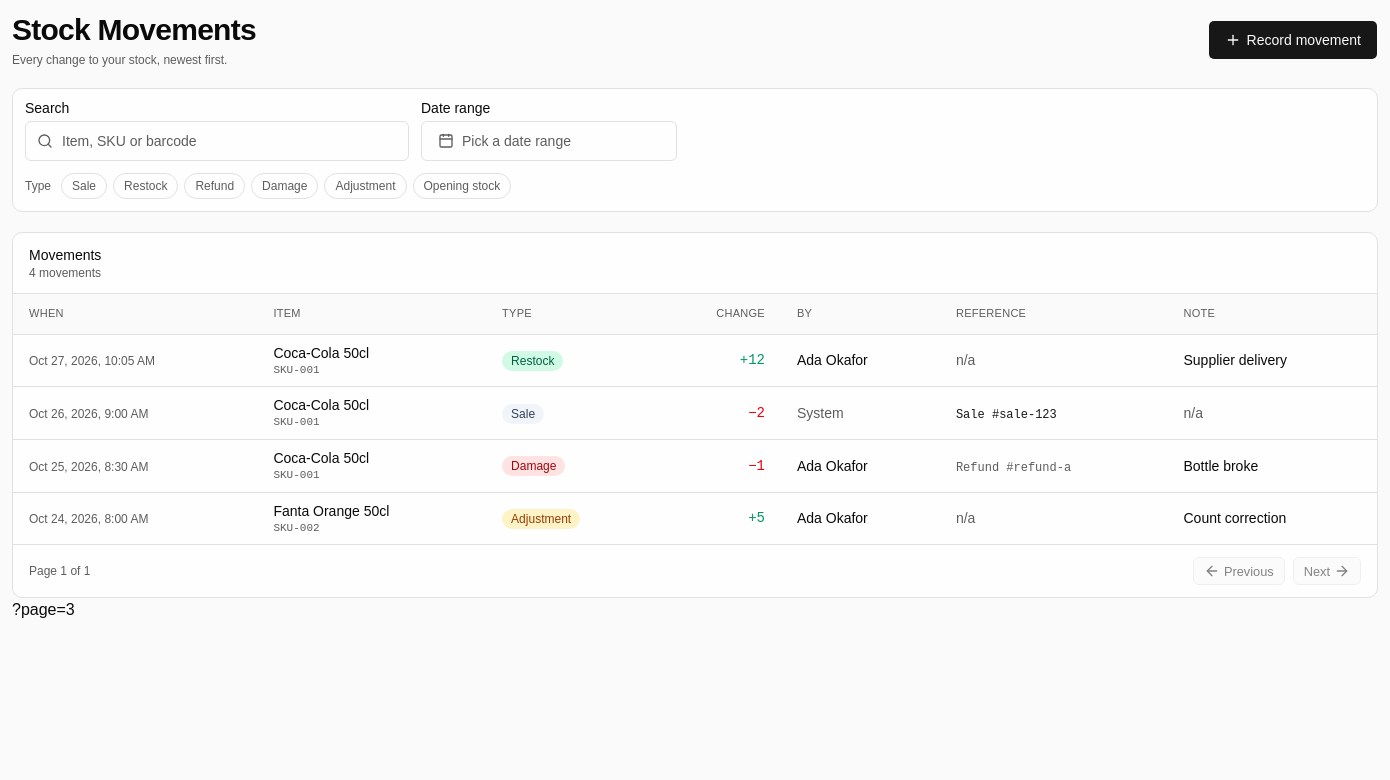
Test case: StockMovementPage › toggles a reason chip in the URL and returns to page one
Expected: the text "4 movements" is shown, [29,265,101,281]
Click the button "Sale": click(84, 186) [61,173,107,199]
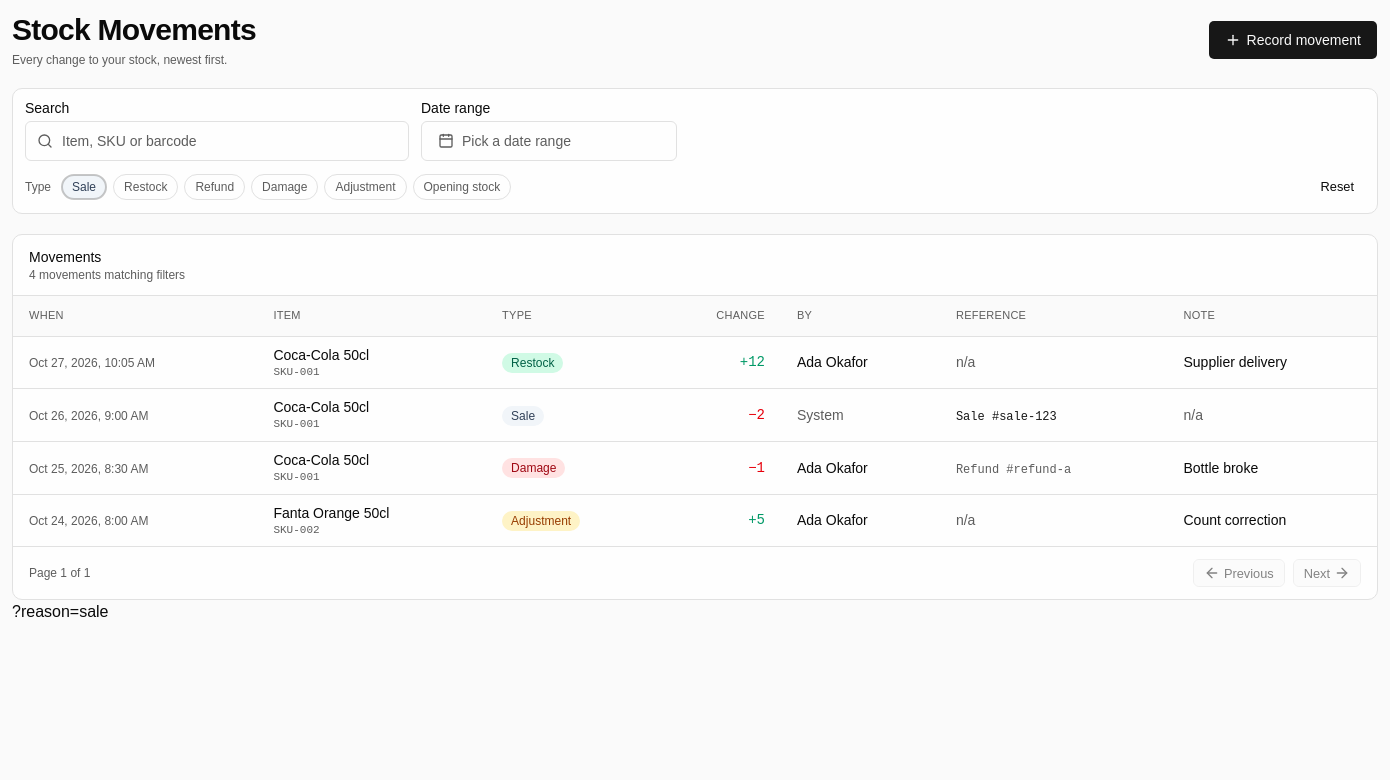
Expected: the text with test id "location-search" shows "reason=sale", [12,603,108,620]
Expected: the text with test id "location-search" no longer shows "page="
